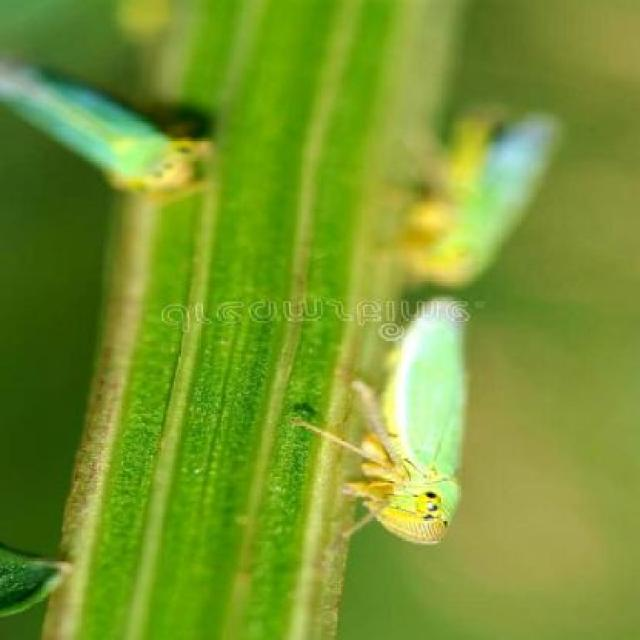green-leafhopper: (342, 305, 472, 546), (402, 111, 564, 283), (9, 68, 203, 206)
